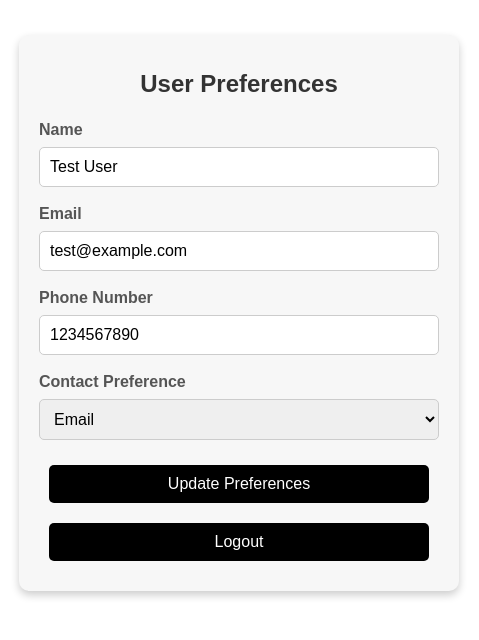
UserSettings Component › shows error message on failed update
Replace the text in the field labelled "Name" with "Updated User" at (239, 167), box [39,147,439,187]
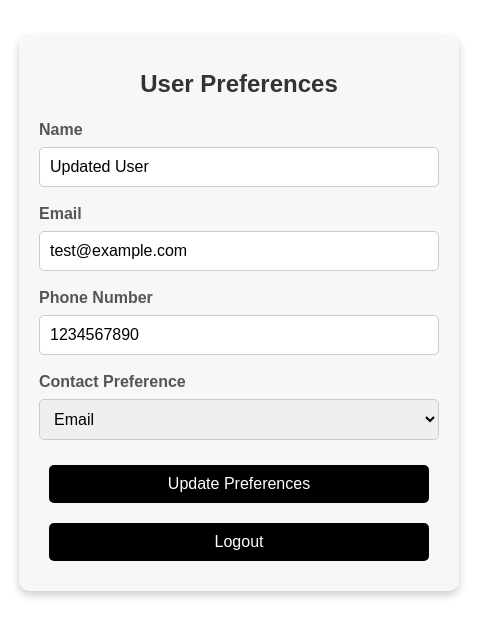
Replace the text in the field labelled "Email" with "updated@example.com" at (239, 251), box [39,231,439,271]
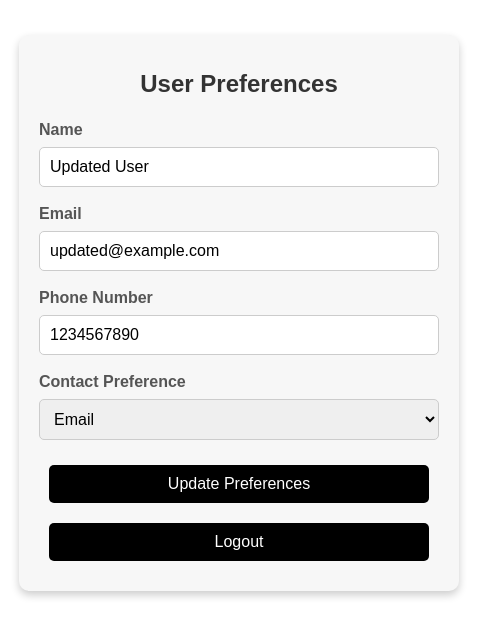
Replace the text in the field labelled "Phone Number" with "0987654321" at (239, 335), box [39,315,439,355]
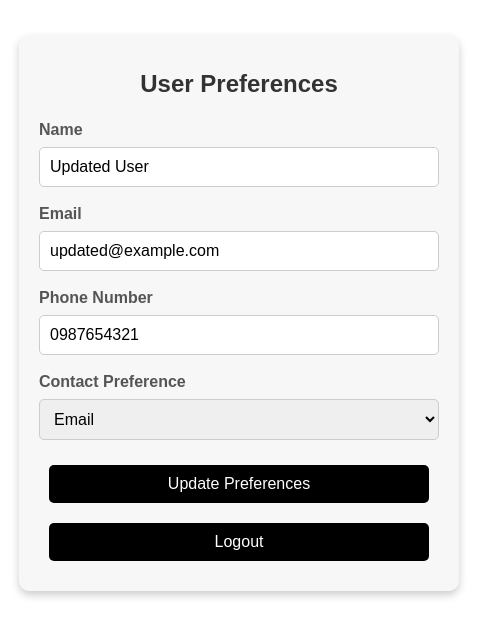
Select "Phone" in the dropdown labelled "Contact Preference" at (239, 419), box [39,399,439,440]
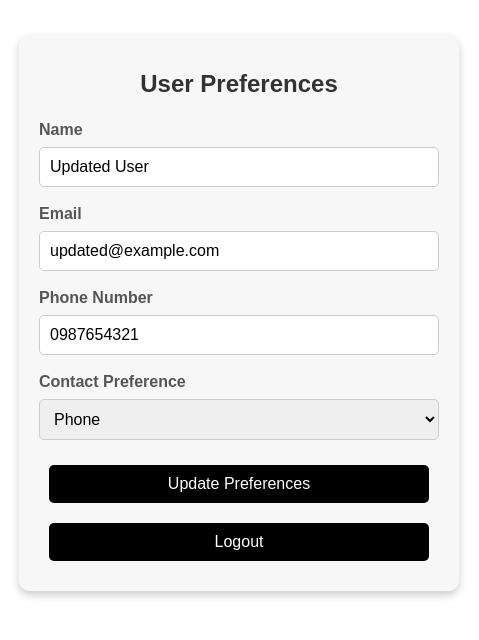
Click the button "Update Preferences" at (239, 484), box [49,465,429,503]
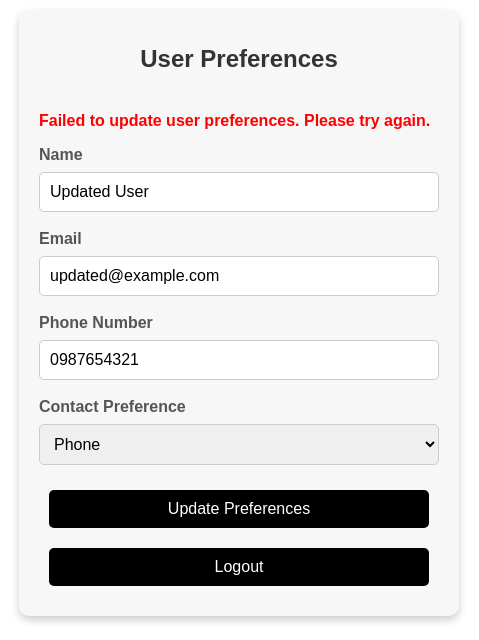
Expected: the text "Failed to update user preferences. Please try again." is shown, [39,109,439,133]
